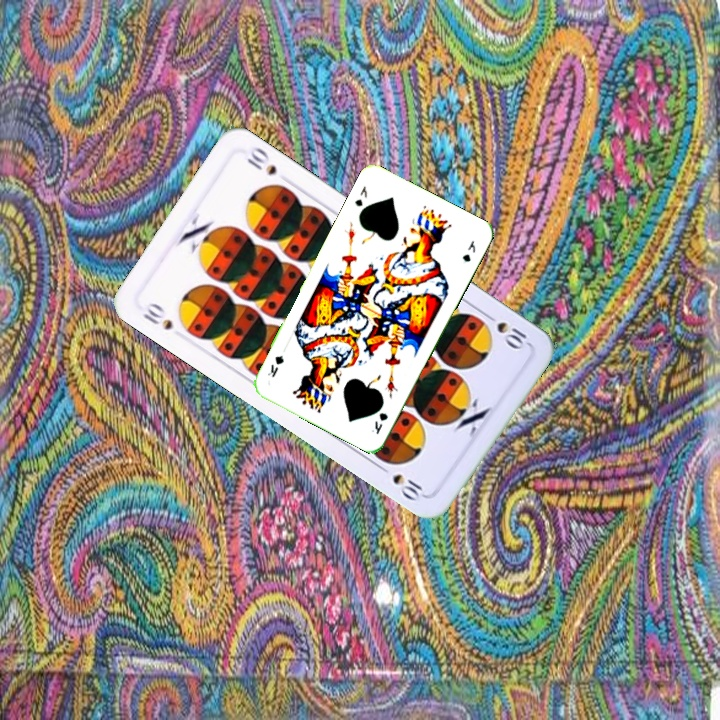GK: (367, 408, 391, 437), (350, 182, 370, 209)
S10: (480, 308, 532, 352), (138, 305, 175, 333)
